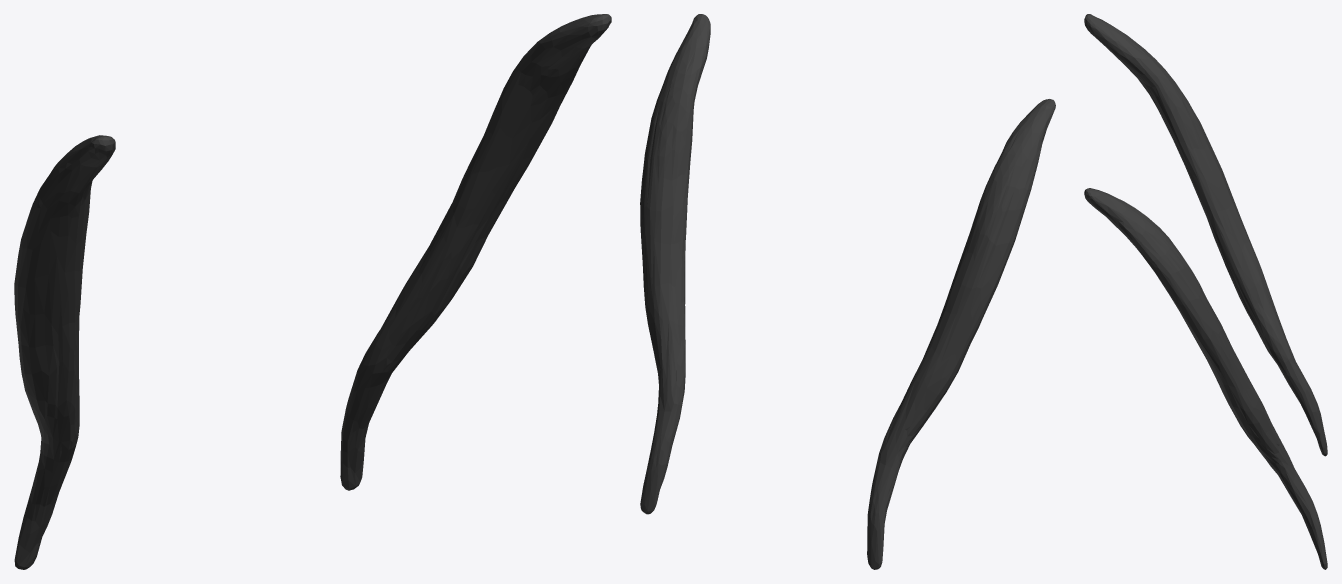
The model's file is m_tibialis_caudalis.glb.
The picture shows the model from 3 angles, left to right: view 1: azimuth 30°, elevation 25°; view 2: azimuth 150°, elevation 25°; view 3: azimuth 270°, elevation 25°; orthographic projection. The views are drawn at different scales.
Parts seen in each view (by area): view 1: m_tibialis_caudalis; view 2: m_tibialis_caudalis; view 3: m_tibialis_caudalis.
Part boxes in pixels (x1,y1,x2,y2): m_tibialis_caudalis: [14, 14, 611, 569]; m_tibialis_caudalis: [640, 14, 1055, 569]; m_tibialis_caudalis: [1084, 14, 1327, 569].
Bounding box in the file's own units: 0.00607 × 0.00625 × 0.00336.
Materials: 1 (1 with a texture image).
